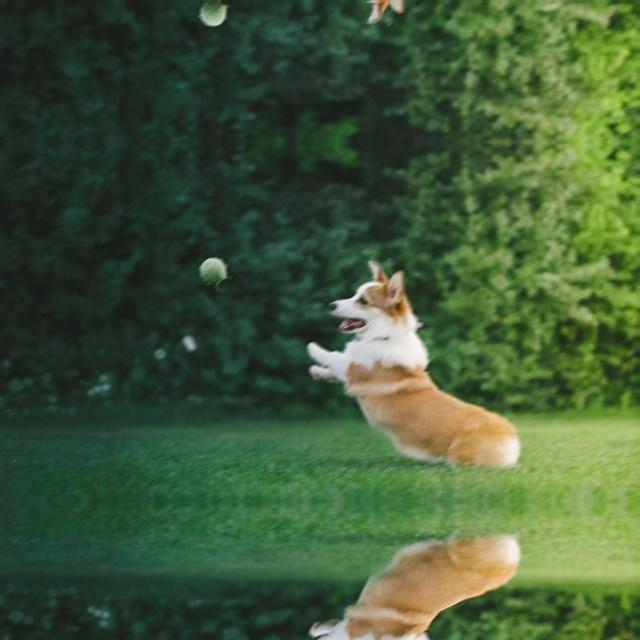dog: (318, 252, 424, 340), (318, 0, 424, 27)
